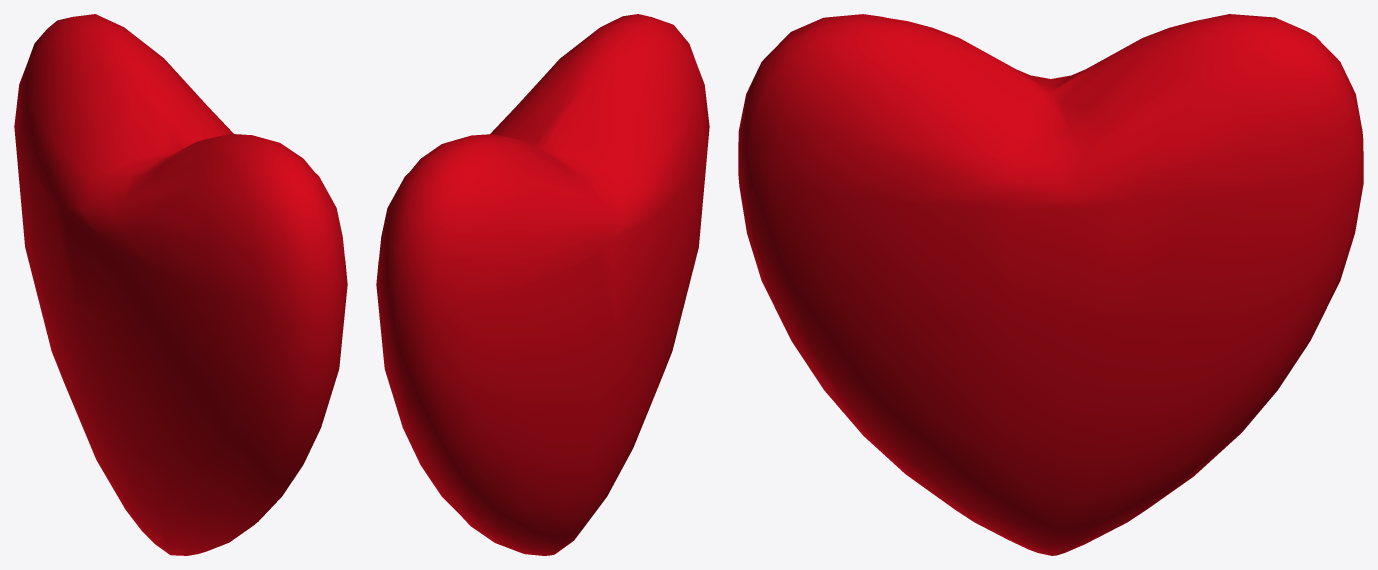
Rendered from Heart.fbx.
3 views of the same model, side by side, from view 1: azimuth 30°, elevation 25°; view 2: azimuth 150°, elevation 25°; view 3: azimuth 270°, elevation 25° (orthographic). The views are drawn at different scales.
Visible parts, largest first — view 1: Heart; view 2: Heart; view 3: Heart.
Part boxes in pixels (x1=…): Heart: x1=14, y1=14, x2=347, y2=555; Heart: x1=376, y1=14, x2=709, y2=555; Heart: x1=738, y1=14, x2=1363, y2=555.
Bounding box in the file's own units: 78.77 × 188 × 199.
